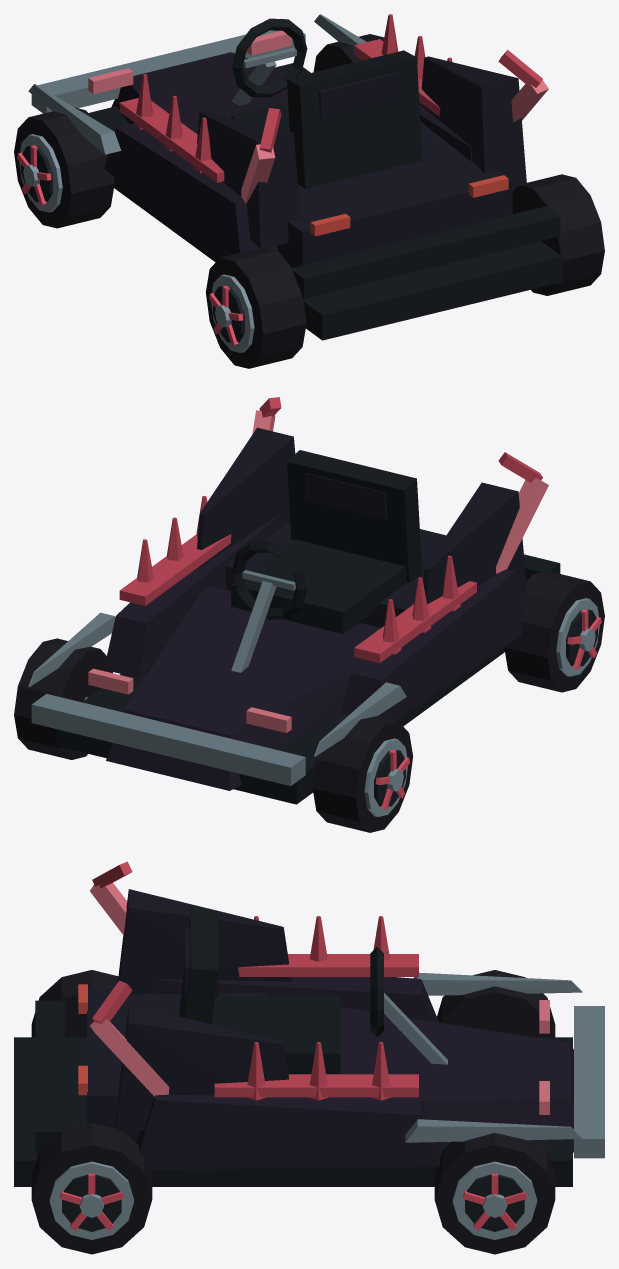
File: kart.glb
3 views of the same model, one above another, from view 1: azimuth 30°, elevation 25°; view 2: azimuth 150°, elevation 25°; view 3: azimuth 270°, elevation 25° (orthographic). The views are drawn at different scales.
Parts seen in each view (by area): view 1: chassis, wheel-rear-left, wheel-front-left, wheel-rear-right, wheel-front-right; view 2: chassis, wheel-rear-left, wheel-front-left, wheel-front-right; view 3: chassis, wheel-rear-right, wheel-front-right, wheel-front-left, wheel-rear-left.
Boxes of the visible parts, <box> form: chassis: <box>28,14,562,340</box>; wheel-rear-left: <box>205,248,306,368</box>; wheel-front-left: <box>14,107,114,228</box>; wheel-rear-right: <box>512,174,604,295</box>; wheel-front-right: <box>313,34,384,72</box>; chassis: <box>28,397,560,804</box>; wheel-rear-left: <box>504,571,604,692</box>; wheel-front-left: <box>312,712,413,832</box>; wheel-front-right: <box>14,638,112,759</box>; chassis: <box>14,861,604,1186</box>; wheel-rear-right: <box>31,1123,152,1254</box>; wheel-front-right: <box>434,1133,555,1254</box>; wheel-front-left: <box>437,970,555,1037</box>; wheel-rear-left: <box>31,970,118,1037</box>.
Size of the model in its own units: 2.3 by 1.38 by 3.03.
